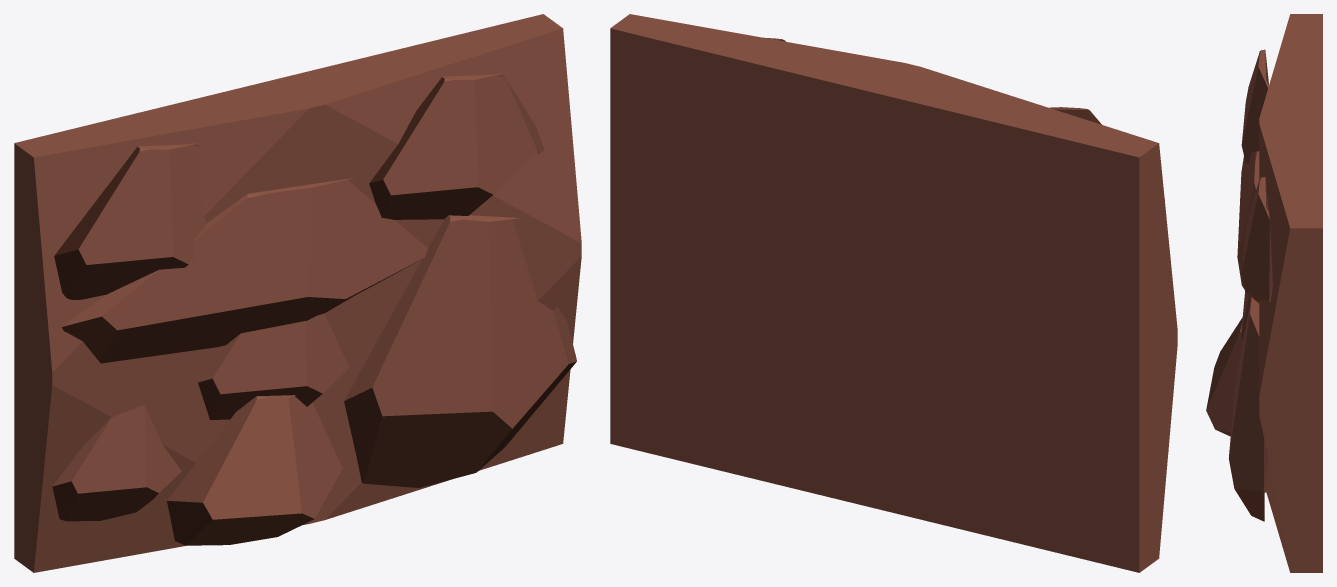
Rendered from muro.fbx.
3 renders of one model, left to right at view 1: azimuth 30°, elevation 25°; view 2: azimuth 150°, elevation 25°; view 3: azimuth 270°, elevation 25°, orthographic. The views are drawn at different scales.
Visible parts, largest first — view 1: Cube.001; view 2: Cube.001; view 3: Cube.001.
Part boxes in pixels (<box>): Cube.001: <box>14,14,581,572</box>; Cube.001: <box>610,14,1177,572</box>; Cube.001: <box>1206,14,1322,572</box>.
Size of the model in its own units: 400 by 300 by 92.08.
